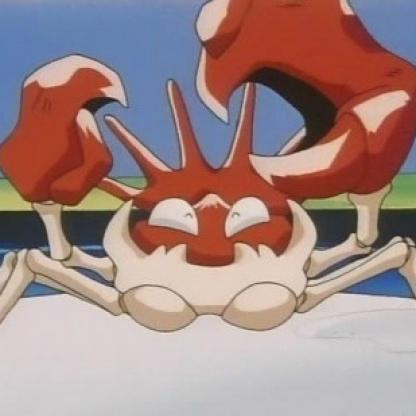Kingler: (1, 1, 416, 342)
